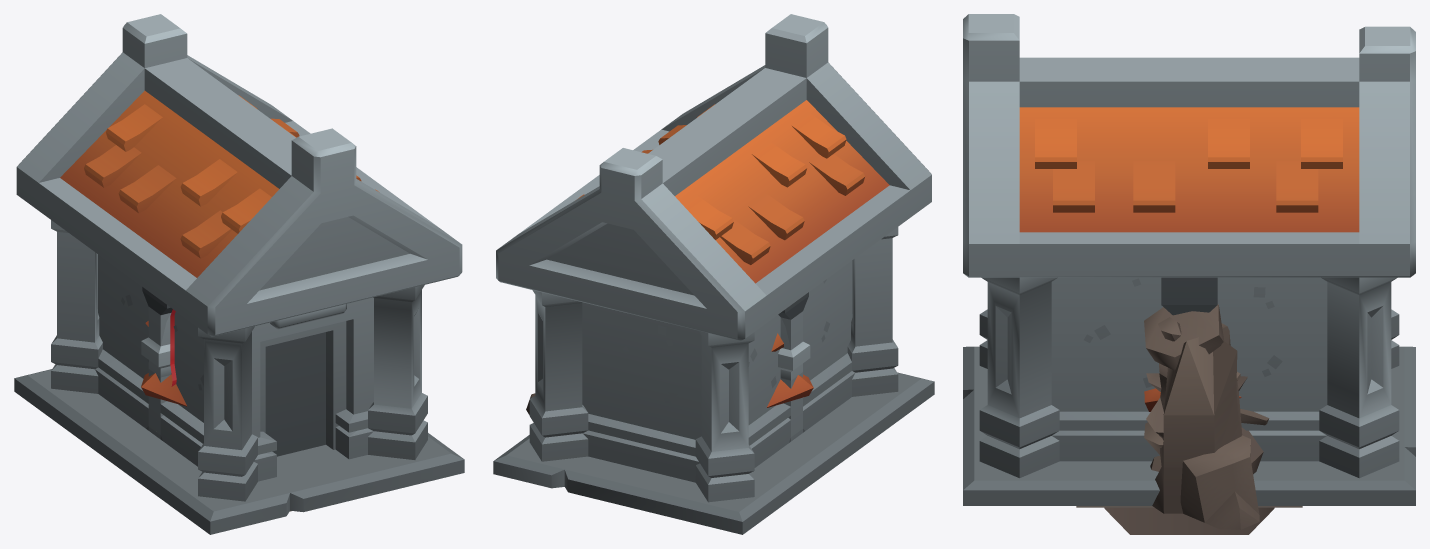
The model's file is props.glb.
3 views of the same model, side by side, from view 1: azimuth 30°, elevation 25°; view 2: azimuth 150°, elevation 25°; view 3: azimuth 270°, elevation 25° (orthographic). The views are drawn at different scales.
Visible parts, largest first — view 1: crypt, wall, arch, tree_pine_orange_large; view 2: crypt, wall, arch, tree_pine_orange_large; view 3: crypt, rubble_half, floor_dirt_grave, wall, wall_half.
Boxes of the visible parts, left/top/right/bottom form: crypt: left=14, top=14, right=464, bottom=534; wall: left=142, top=287, right=172, bottom=440; arch: left=141, top=314, right=171, bottom=439; tree_pine_orange_large: left=141, top=321, right=187, bottom=406; crypt: left=493, top=14, right=934, bottom=534; wall: left=778, top=292, right=808, bottom=442; arch: left=778, top=317, right=810, bottom=441; tree_pine_orange_large: left=767, top=333, right=813, bottom=407; crypt: left=963, top=14, right=1415, bottom=505; rubble_half: left=1144, top=304, right=1269, bottom=529; floor_dirt_grave: left=1076, top=506, right=1302, bottom=534; wall: left=1168, top=277, right=1217, bottom=315; wall_half: left=1161, top=277, right=1189, bottom=311.
Bounding box in the file's own units: 7 × 9.5 × 8.
Materials: 2 (2 with a texture image).
